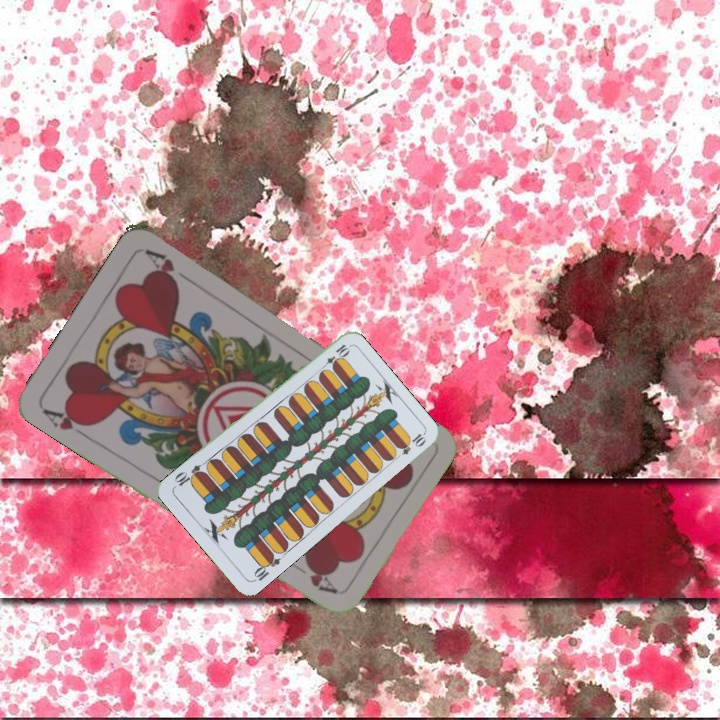E10: (249, 549, 283, 584), (317, 340, 352, 373)
HA: (38, 404, 93, 441)
